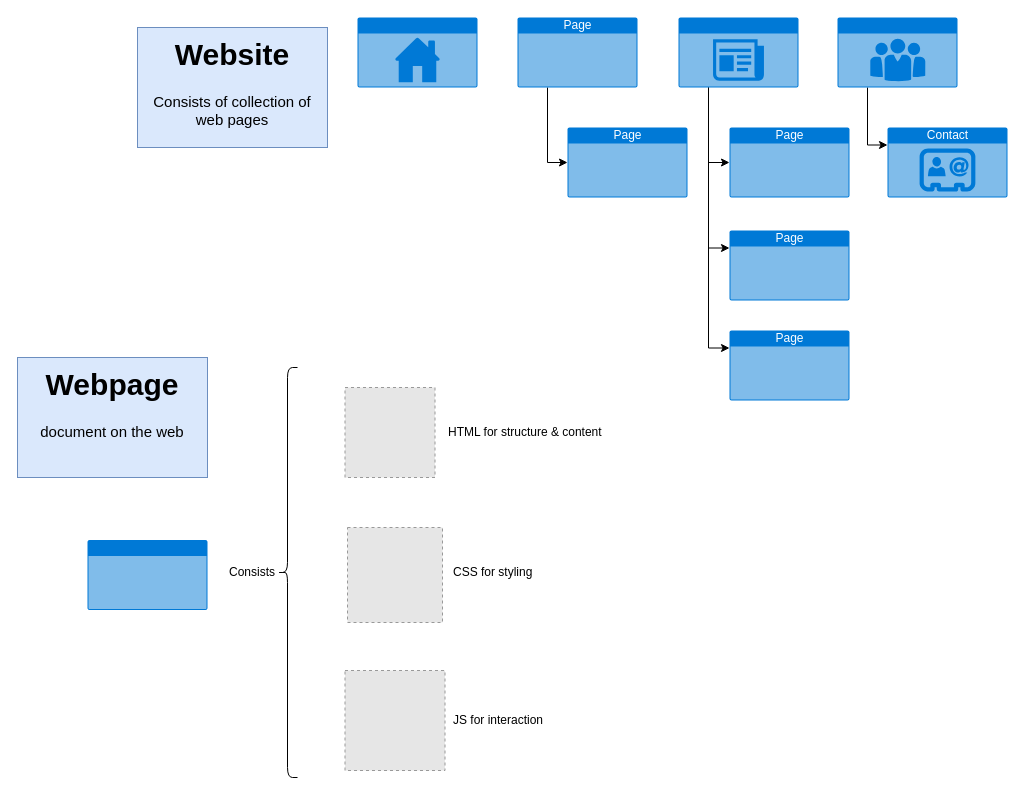
Image size: 1025x795. Some labels were removed from this diagram. Grey dashed boxes stand in for pictures. Each missing label, with the centre of its shape:
"About us" goes at [897,52].
"Home" goes at [417,52].
"News" goes at [738,52].
"Webpage" goes at [147,575].
